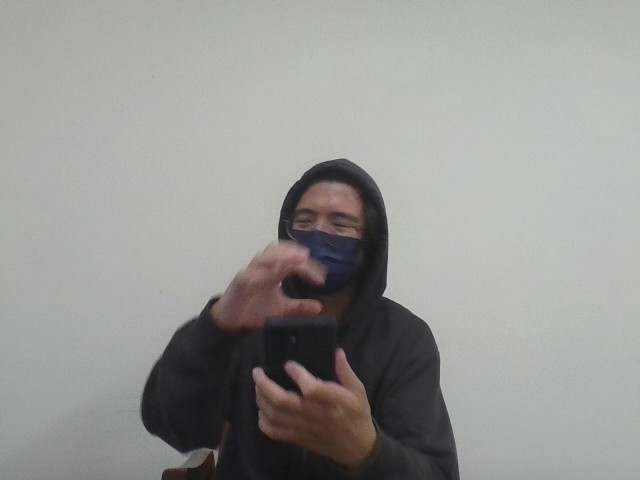No_Gloves: (245, 346, 378, 468), (207, 235, 329, 336)
No_Helmet: (275, 155, 389, 303)
person: (118, 140, 484, 478)
